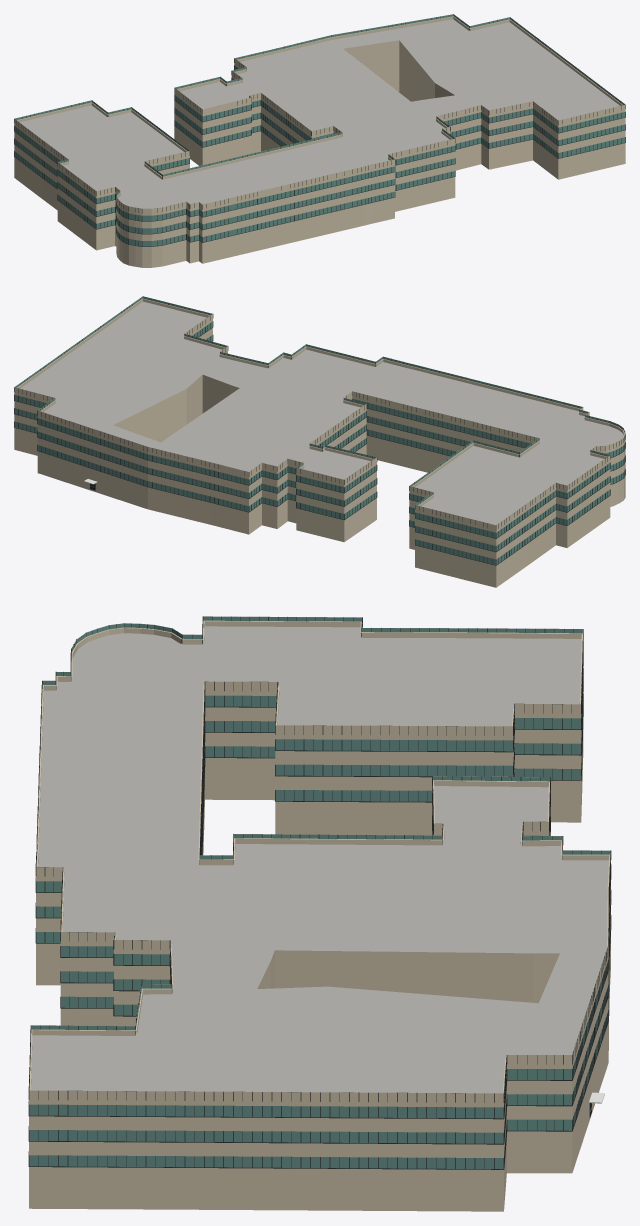
Rendered from naveen_jindal_school_of_management.glb.
The picture shows the model from 3 angles, top to bottom: view 1: azimuth 30°, elevation 25°; view 2: azimuth 150°, elevation 25°; view 3: azimuth 270°, elevation 25°; orthographic projection. The views are drawn at different scales.
Parts seen in each view (by area): view 1: naveen_jindal_school_of_management_Roof_Membrane, naveen_jindal_school_of_management_Wall_limestone, naveen_jindal_school_of_management_Glass_green, naveen_jindal_school_of_management_Frame_Dark; view 2: naveen_jindal_school_of_management_Roof_Membrane, naveen_jindal_school_of_management_Wall_limestone, naveen_jindal_school_of_management_Glass_green, naveen_jindal_school_of_management_Frame_Dark; view 3: naveen_jindal_school_of_management_Roof_Membrane, naveen_jindal_school_of_management_Wall_limestone, naveen_jindal_school_of_management_Glass_green, naveen_jindal_school_of_management_Frame_Dark.
Part boxes in pixels (x1,y1,x2,y2): naveen_jindal_school_of_management_Roof_Membrane: (19, 19, 619, 208); naveen_jindal_school_of_management_Wall_limestone: (14, 16, 625, 267); naveen_jindal_school_of_management_Glass_green: (14, 14, 625, 246); naveen_jindal_school_of_management_Frame_Dark: (14, 14, 625, 246); naveen_jindal_school_of_management_Roof_Membrane: (20, 301, 624, 525); naveen_jindal_school_of_management_Wall_limestone: (14, 296, 625, 587); naveen_jindal_school_of_management_Glass_green: (14, 296, 625, 565); naveen_jindal_school_of_management_Frame_Dark: (14, 298, 625, 565); naveen_jindal_school_of_management_Roof_Membrane: (30, 626, 608, 1093); naveen_jindal_school_of_management_Wall_limestone: (29, 616, 610, 1211); naveen_jindal_school_of_management_Glass_green: (29, 616, 610, 1169); naveen_jindal_school_of_management_Frame_Dark: (28, 616, 611, 1169).
Bounding box in the file's own units: 177 × 20.41 × 91.19.
